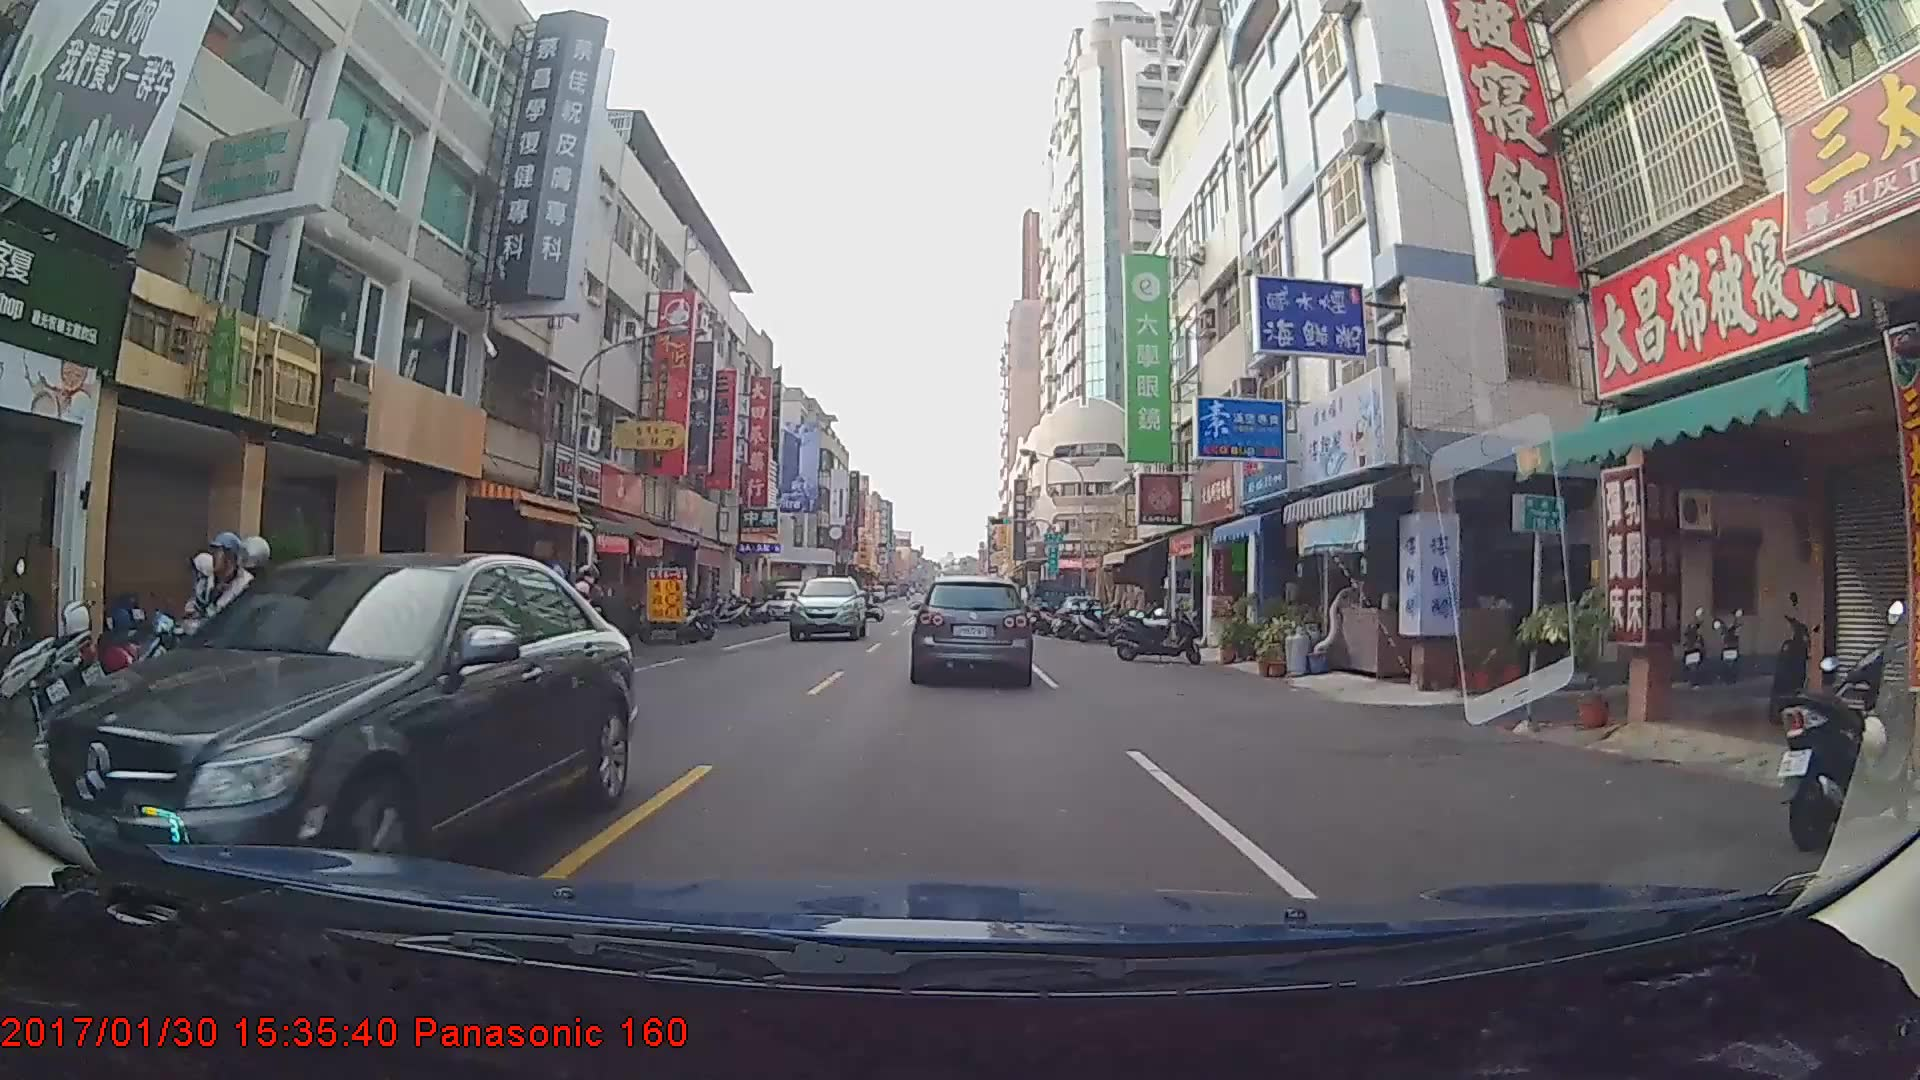vehicle: (32, 549, 637, 923), (913, 574, 1031, 684), (789, 575, 866, 642), (1025, 574, 1083, 625)
